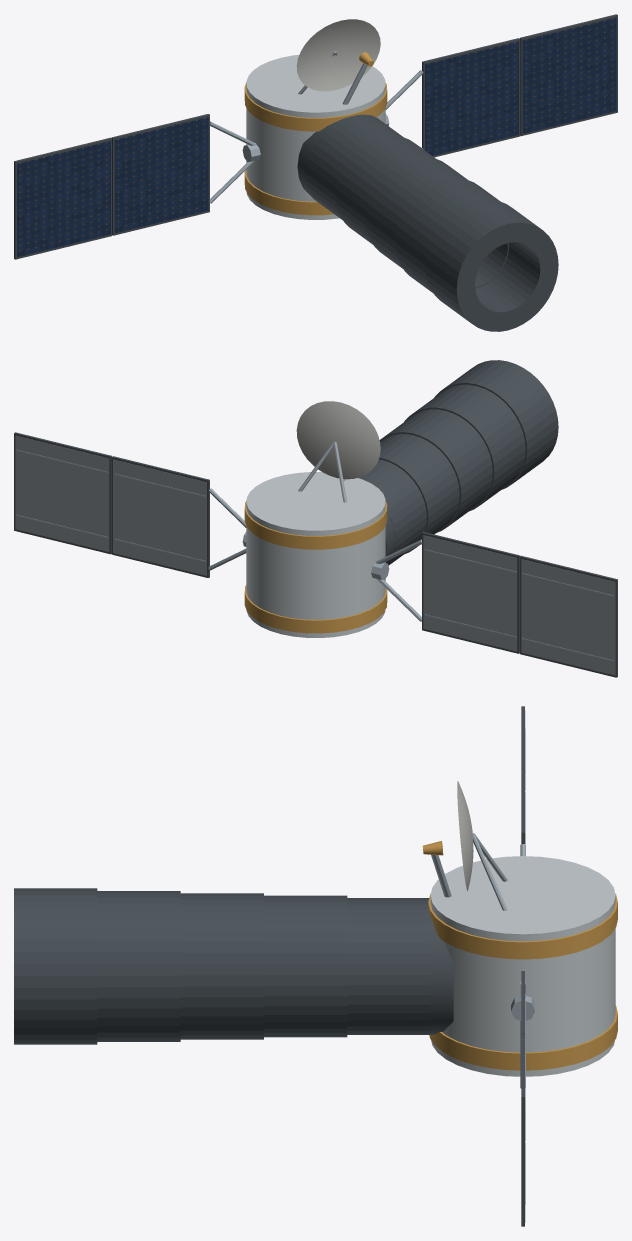
File: ref-prognoz-21111.glb
The picture shows the model from 3 angles, top to bottom: view 1: azimuth 30°, elevation 25°; view 2: azimuth 150°, elevation 25°; view 3: azimuth 270°, elevation 25°; orthographic projection. The views are drawn at different scales.
Visible parts, largest first — view 1: Solar cell panel (×4), Telescoping sunshade (×5), Service module, Communications reflector, Solar panel frame (×4), Module band (×2), Telescope throat; view 2: Rear array substrate (×4), Telescoping sunshade (×5), Service module, Communications reflector, Solar panel frame (×4), Module band (×2), Telescope throat; view 3: Telescoping sunshade (×5), Service module, Module band (×2), Telescope throat, Communications reflector, Solar panel frame.
Boxes of the visible parts, bbox=[...] form: Solar cell panel (×4): bbox=[17, 17, 616, 257]; Telescoping sunshade (×5): bbox=[306, 114, 558, 331]; Service module: bbox=[246, 55, 385, 219]; Communications reflector: bbox=[296, 19, 380, 91]; Solar panel frame (×4): bbox=[14, 14, 617, 259]; Module band (×2): bbox=[244, 82, 387, 215]; Telescope throat: bbox=[297, 114, 381, 202]; Rear array substrate (×4): bbox=[15, 435, 615, 675]; Telescoping sunshade (×5): bbox=[358, 360, 558, 565]; Service module: bbox=[246, 472, 385, 637]; Communications reflector: bbox=[296, 401, 380, 479]; Solar panel frame (×4): bbox=[14, 432, 617, 677]; Module band (×2): bbox=[244, 500, 387, 633]; Telescope throat: bbox=[368, 480, 402, 563]; Telescoping sunshade (×5): bbox=[14, 888, 430, 1044]; Service module: bbox=[430, 856, 615, 1076]; Module band (×2): bbox=[428, 893, 617, 1070]; Telescope throat: bbox=[407, 899, 453, 1034]; Communications reflector: bbox=[457, 781, 473, 890]; Solar panel frame: bbox=[521, 1034, 524, 1226].
Size of the model in its own units: 9.98 by 2.98 by 6.53.
Materials: 7 (1 with a texture image).
